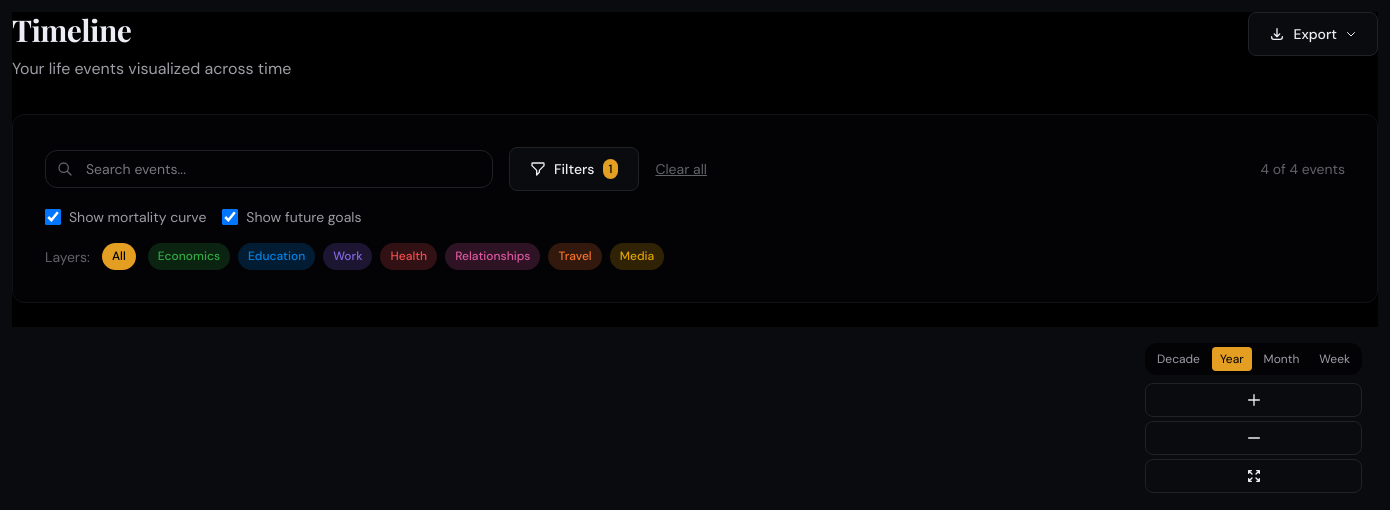
TimelineView › Layer Filtering › toggles layer visibility when clicked
The image size is (1390, 510).
Note: Click to hide work layer
Click the button "Work" at (348, 257), box [323,243,372,270]
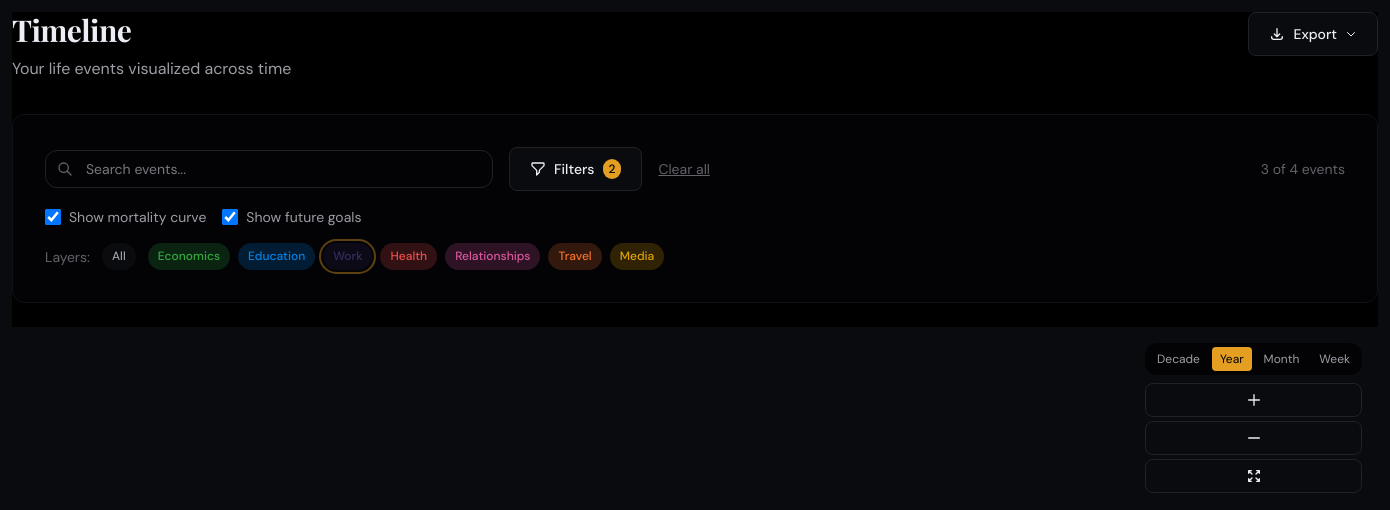
Check: the text "3 of 4 events" is shown, box [1261,159,1345,179]
